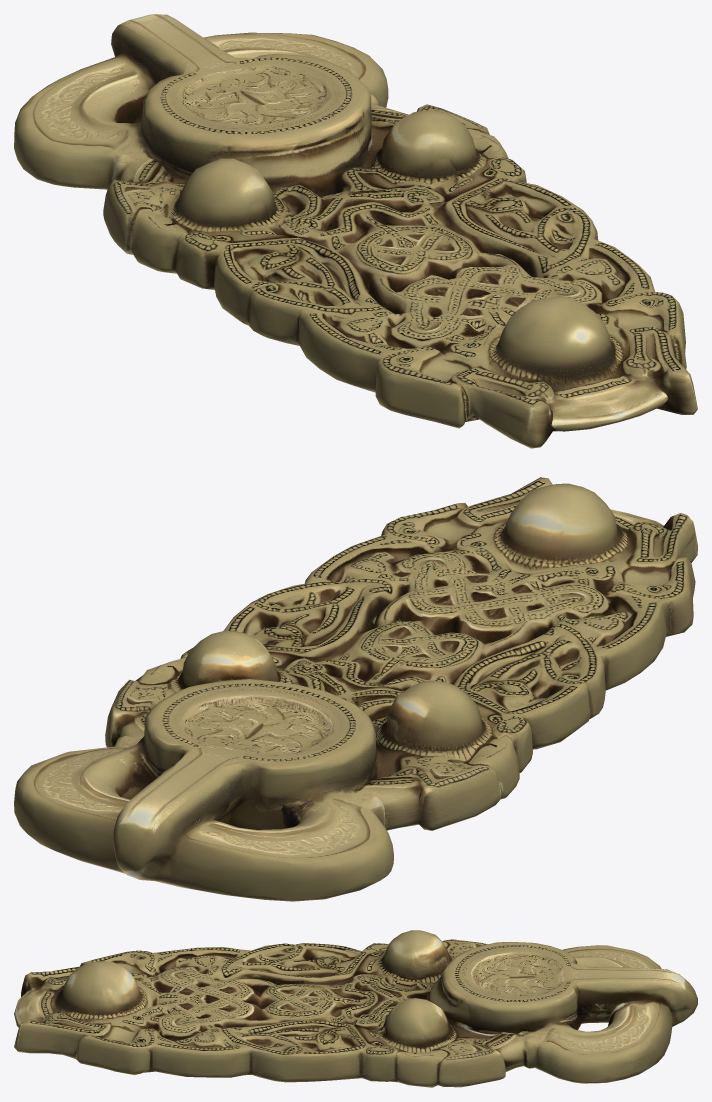
Rendered from SHBuckle.glb.
3 renders of one model, top to bottom at view 1: azimuth 30°, elevation 25°; view 2: azimuth 150°, elevation 25°; view 3: azimuth 270°, elevation 25°, orthographic. The views are drawn at different scales.
Bounding box in the file's own units: 0.8258 × 0.2074 × 1.91.
1 material, 1 textured.
